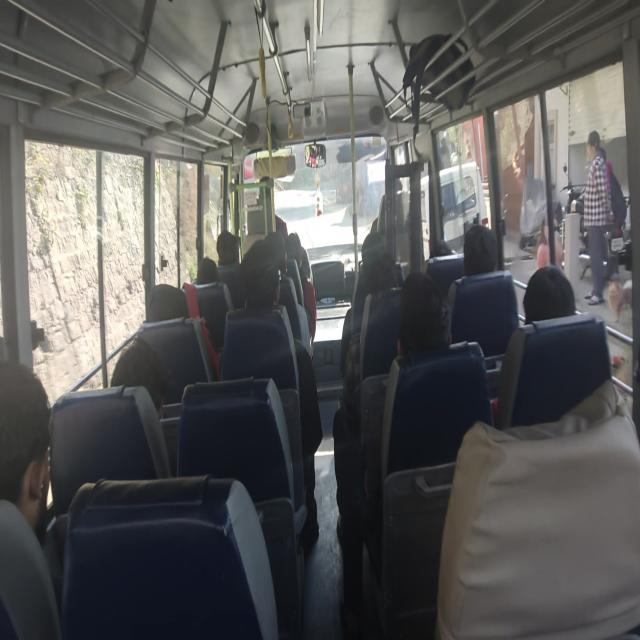person: (337, 271, 493, 635), (221, 238, 322, 548), (0, 360, 62, 638), (582, 129, 614, 305), (110, 336, 172, 419), (285, 231, 317, 347), (522, 264, 576, 324), (462, 223, 498, 276), (536, 201, 564, 269), (216, 230, 240, 266)
